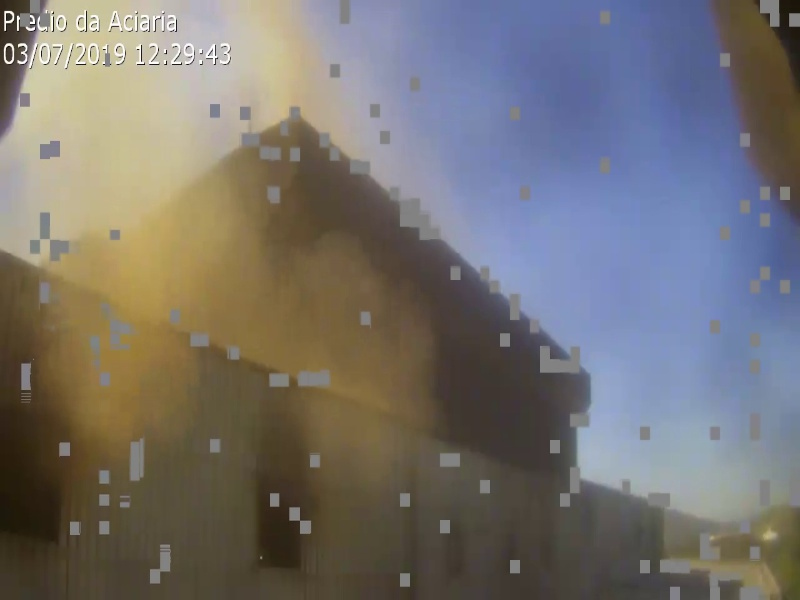Pessimo: (5, 5, 444, 518)
